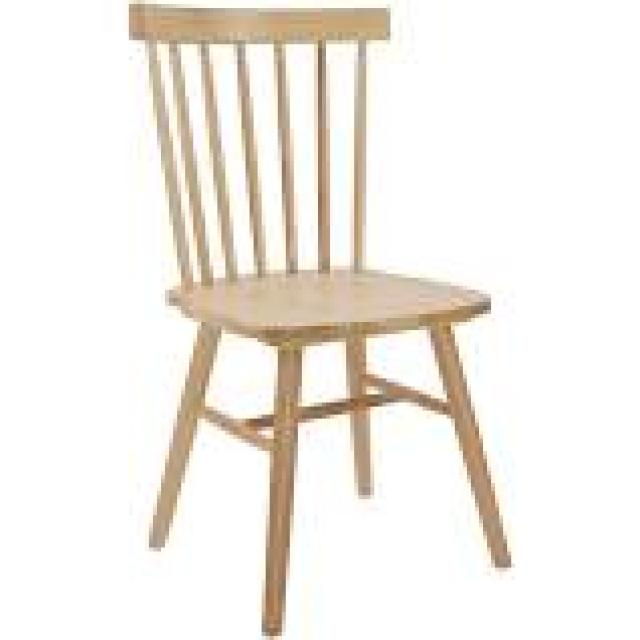bottle: (129, 3, 519, 633)
